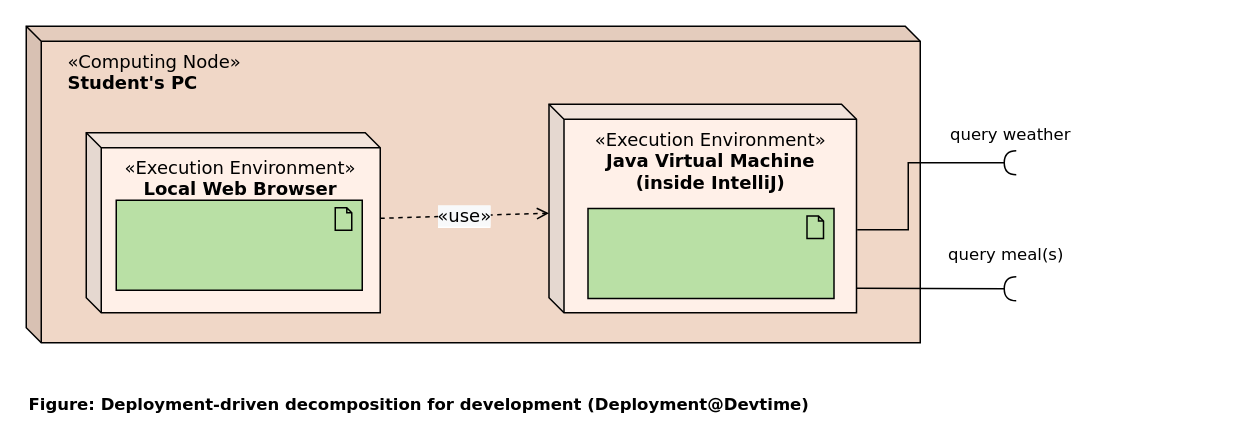
Some shapes in this 1248 by 446 pixel diagram are drawn without their labels. Here are the shapes that lost their labels. From the top down, the centre of each, then its label:
At pixel 238 244: "«Deployment Artifact » What2Eat Web App".
At pixel 710 252: "«Deployment Artifact » What2Eat Backend".
